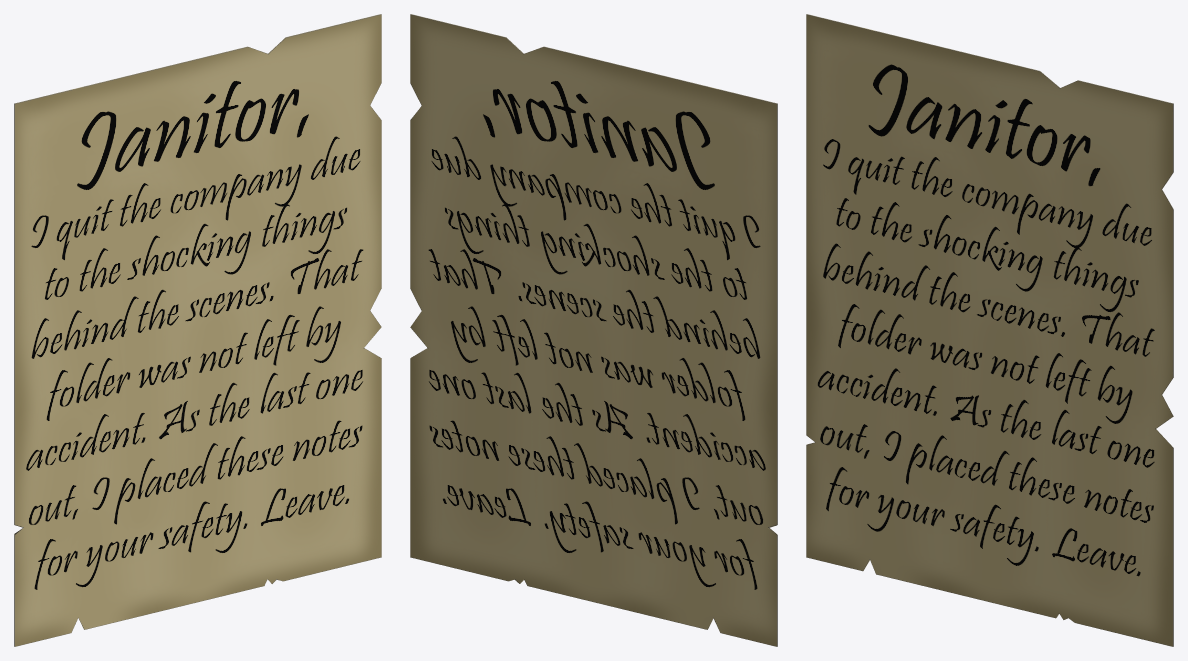
Rendered from p_note_1.fbx.
The picture shows the model from 3 angles, left to right: view 1: azimuth 30°, elevation 25°; view 2: azimuth 150°, elevation 25°; view 3: azimuth 330°, elevation 25°; orthographic projection.
Visible parts, largest first — view 1: pCube1; view 2: pCube1; view 3: pCube1.
Boxes of the visible parts, left/top/right/bottom form: pCube1: left=14, top=14, right=381, bottom=646; pCube1: left=410, top=14, right=777, bottom=646; pCube1: left=806, top=14, right=1173, bottom=646.
Bounding box in the file's own units: 42 × 59.4 × 0.1135.
